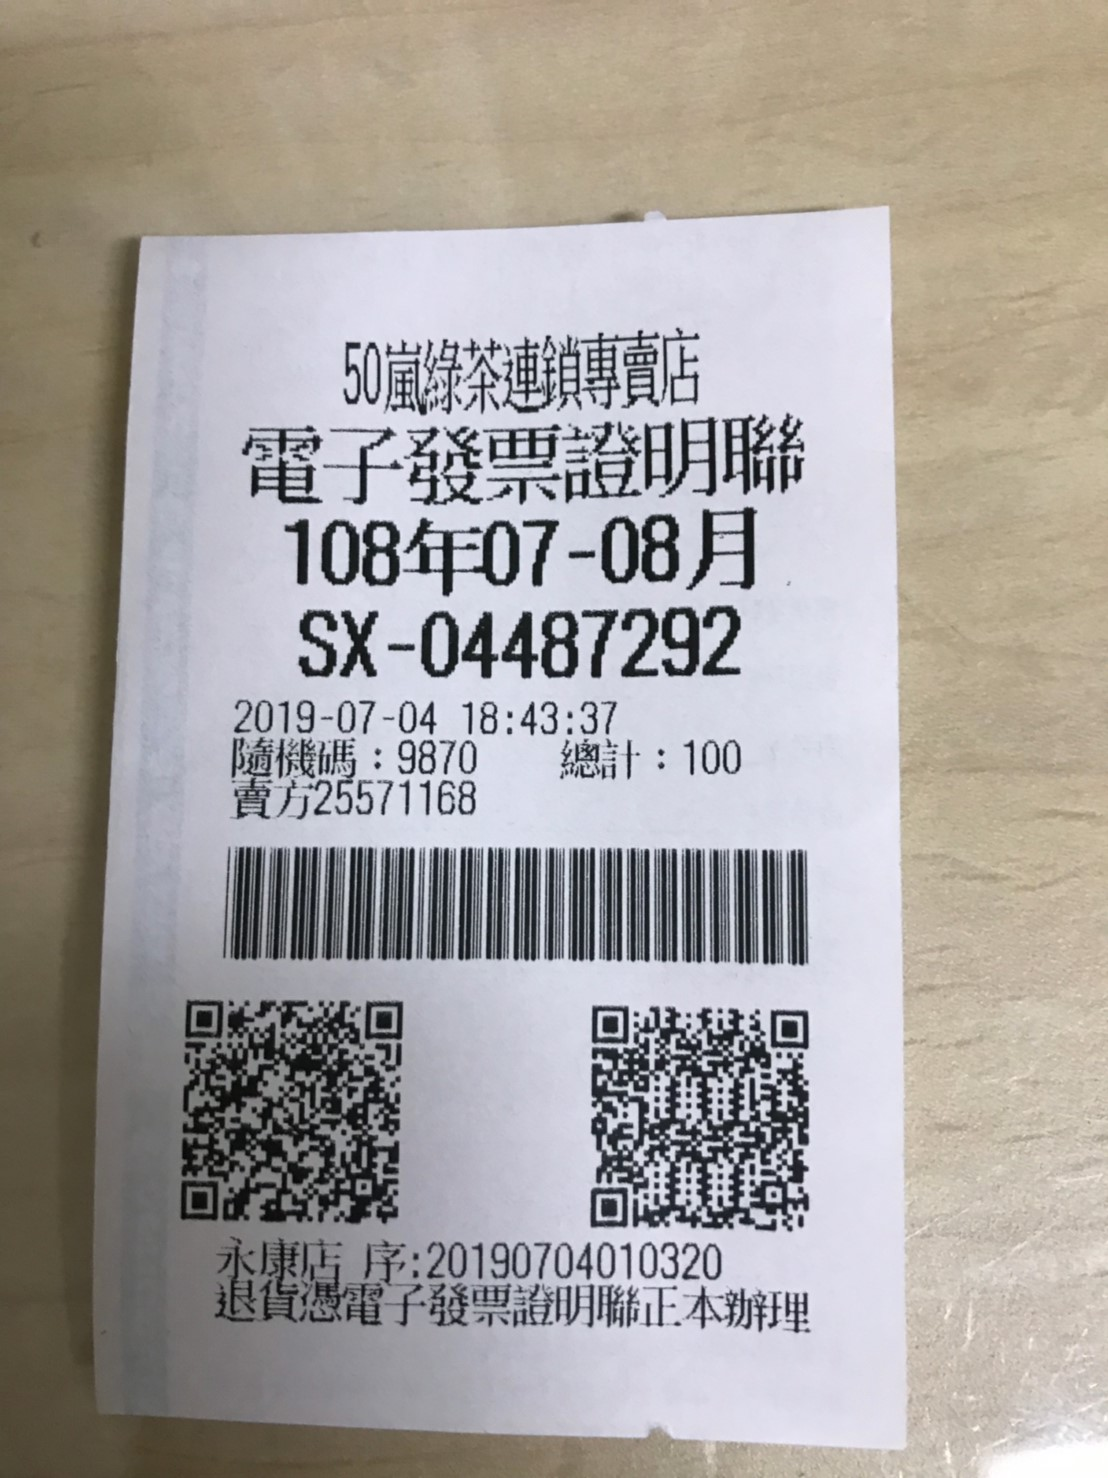Date_New: (283, 509, 759, 591)
Number_New: (422, 603, 743, 684)
